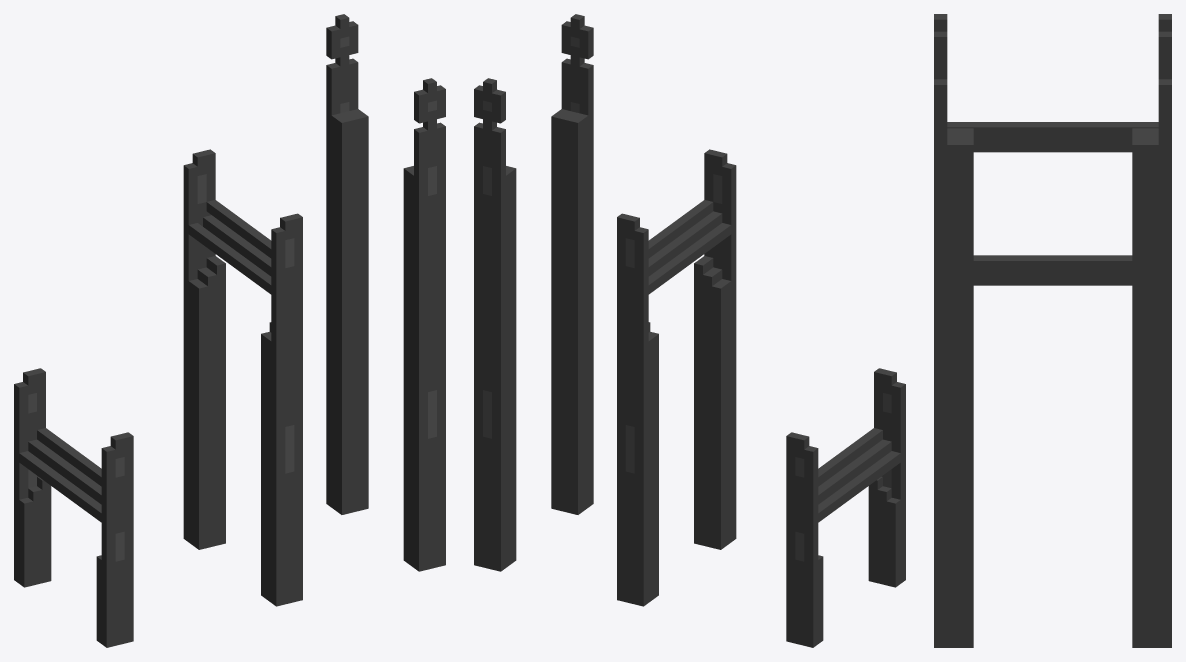
File: столбы новые.obj
3 renders of one model, left to right at view 1: azimuth 30°, elevation 25°; view 2: azimuth 150°, elevation 25°; view 3: azimuth 270°, elevation 25°, orthographic. The views are drawn at different scales.
Size of the model in its own units: 3.8 by 5.2 by 1.8.
Materials: 1 (1 with a texture image).
